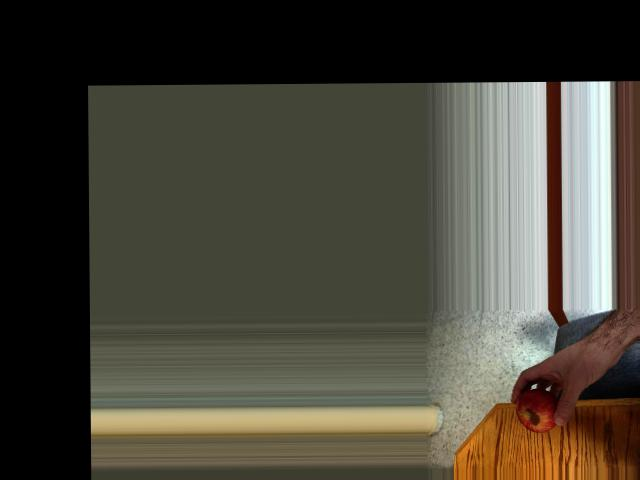apple: (514, 385, 564, 434)
